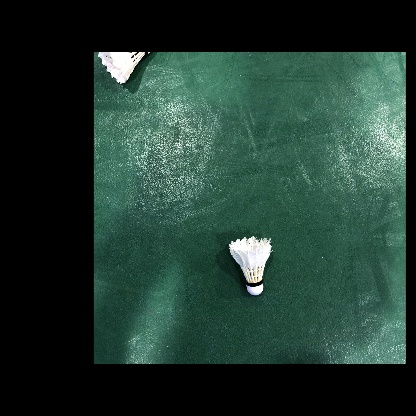ball_single: (229, 236, 271, 295), (98, 52, 152, 84)
